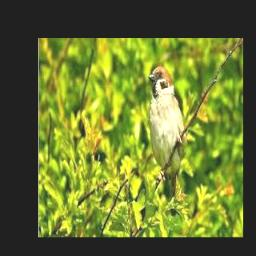Sparrow: (148, 66, 186, 216)
